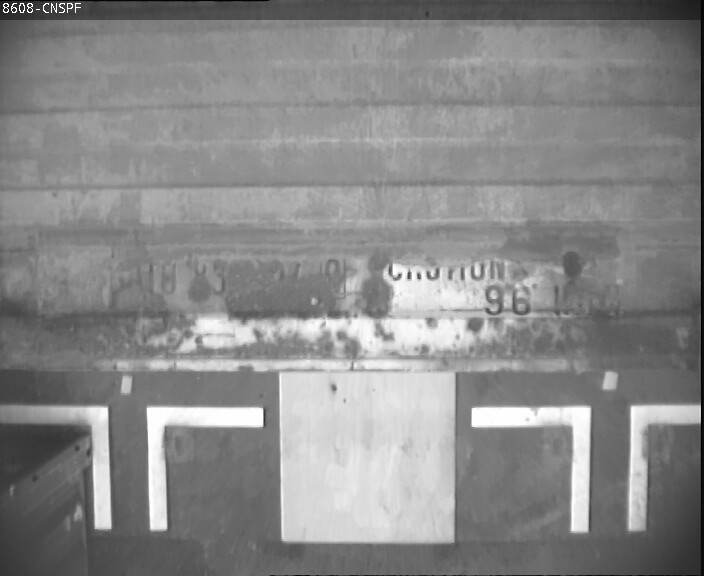groundmarker_1: (1, 399, 262, 532), (465, 404, 704, 528)
